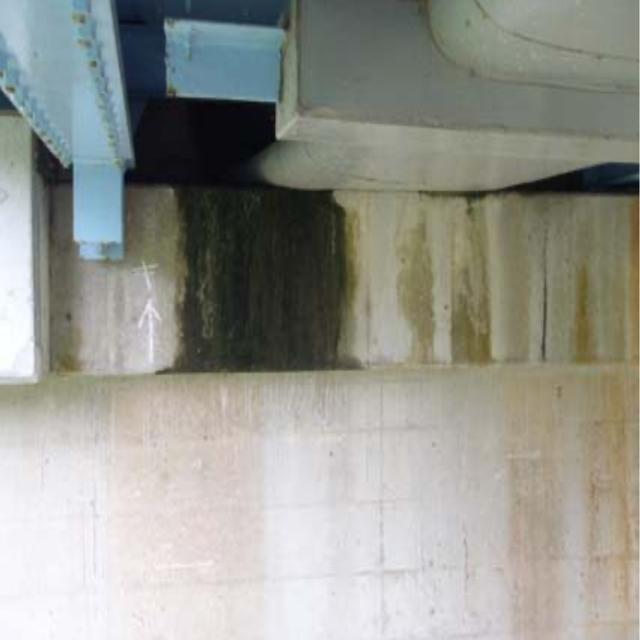leakage: (156, 152, 373, 402)
